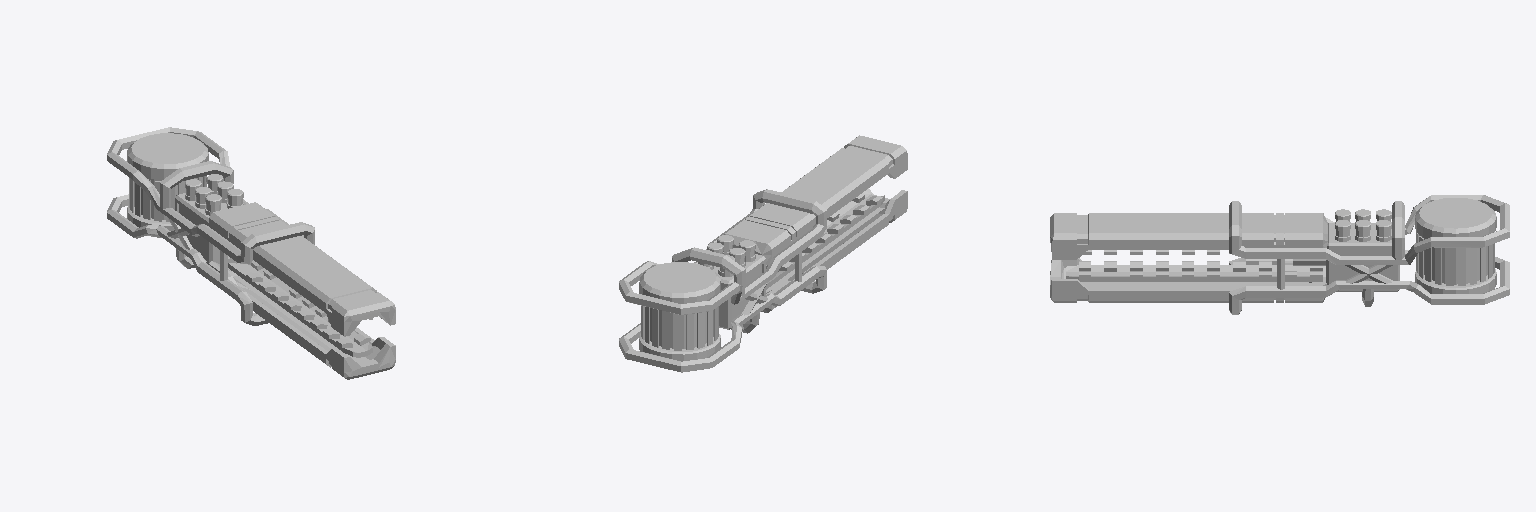
File: Railgun 1 Lambert.obj
3 views of the same model, side by side, from view 1: azimuth 30°, elevation 25°; view 2: azimuth 150°, elevation 25°; view 3: azimuth 270°, elevation 25° (orthographic).
Visible parts, largest first — view 1: RailgunCannon_Geo_Grp Roll_Cage Main_Body_Grp, RailgunCannon_Geo_Grp Top_Shroud Top_Shroud_and_Rail_Grp, RailgunCannon_Geo_Grp Botom_Shroud Bottom_Shroud_and_Rail_Grp, RailgunCannon_Geo_Grp Bottom_Shroud_and_Rail_Grp Bottom_Rail, Capacitor_Main_Body Capacitor_Body_Grp RailgunCannon_Geo_Grp, RailgunCannon_Geo_Grp Main_Body_Grp Accelerator_Spools, RailgunCannon_Geo_Grp Main_Body_Grp Box, Capacitor_Body_Grp RailgunCannon_Geo_Grp Capacitor_Bars; view 2: RailgunCannon_Geo_Grp Roll_Cage Main_Body_Grp, RailgunCannon_Geo_Grp Top_Shroud Top_Shroud_and_Rail_Grp, Capacitor_Main_Body Capacitor_Body_Grp RailgunCannon_Geo_Grp, RailgunCannon_Geo_Grp Botom_Shroud Bottom_Shroud_and_Rail_Grp, Capacitor_Body_Grp RailgunCannon_Geo_Grp Capacitor_Bars, RailgunCannon_Geo_Grp Bottom_Shroud_and_Rail_Grp Bottom_Rail, RailgunCannon_Geo_Grp Main_Body_Grp Box, RailgunCannon_Geo_Grp Main_Body_Grp Accelerator_Spools, Capacitor_Body_Grp RailgunCannon_Geo_Grp Capacitor_Ring; view 3: RailgunCannon_Geo_Grp Top_Shroud Top_Shroud_and_Rail_Grp, RailgunCannon_Geo_Grp Roll_Cage Main_Body_Grp, RailgunCannon_Geo_Grp Botom_Shroud Bottom_Shroud_and_Rail_Grp, RailgunCannon_Geo_Grp Bottom_Shroud_and_Rail_Grp Bottom_Rail, Capacitor_Main_Body Capacitor_Body_Grp RailgunCannon_Geo_Grp, RailgunCannon_Geo_Grp Main_Body_Grp Box, Capacitor_Body_Grp RailgunCannon_Geo_Grp Capacitor_Bars, RailgunCannon_Geo_Grp Main_Body_Grp Accelerator_Spools, Capacitor_Body_Grp RailgunCannon_Geo_Grp Capacitor_Ring.
Boxes of the visible parts, x1,y1,x2,y2 form: RailgunCannon_Geo_Grp Roll_Cage Main_Body_Grp: [107, 127, 314, 325]; RailgunCannon_Geo_Grp Top_Shroud Top_Shroud_and_Rail_Grp: [209, 202, 395, 336]; RailgunCannon_Geo_Grp Botom_Shroud Bottom_Shroud_and_Rail_Grp: [209, 261, 395, 379]; RailgunCannon_Geo_Grp Bottom_Shroud_and_Rail_Grp Bottom_Rail: [228, 256, 372, 357]; Capacitor_Main_Body Capacitor_Body_Grp RailgunCannon_Geo_Grp: [127, 133, 208, 237]; RailgunCannon_Geo_Grp Main_Body_Grp Accelerator_Spools: [185, 174, 243, 215]; RailgunCannon_Geo_Grp Main_Body_Grp Box: [175, 193, 227, 264]; Capacitor_Body_Grp RailgunCannon_Geo_Grp Capacitor_Bars: [129, 176, 206, 221]; RailgunCannon_Geo_Grp Roll_Cage Main_Body_Grp: [619, 189, 826, 372]; RailgunCannon_Geo_Grp Top_Shroud Top_Shroud_and_Rail_Grp: [724, 135, 907, 264]; Capacitor_Main_Body Capacitor_Body_Grp RailgunCannon_Geo_Grp: [639, 262, 720, 361]; RailgunCannon_Geo_Grp Botom_Shroud Bottom_Shroud_and_Rail_Grp: [761, 188, 907, 312]; Capacitor_Body_Grp RailgunCannon_Geo_Grp Capacitor_Bars: [641, 306, 718, 350]; RailgunCannon_Geo_Grp Bottom_Shroud_and_Rail_Grp Bottom_Rail: [766, 191, 884, 289]; RailgunCannon_Geo_Grp Main_Body_Grp Box: [713, 254, 765, 329]; RailgunCannon_Geo_Grp Main_Body_Grp Accelerator_Spools: [698, 235, 755, 276]; Capacitor_Body_Grp RailgunCannon_Geo_Grp Capacitor_Ring: [650, 308, 713, 348]; RailgunCannon_Geo_Grp Top_Shroud Top_Shroud_and_Rail_Grp: [1050, 213, 1327, 259]; RailgunCannon_Geo_Grp Roll_Cage Main_Body_Grp: [1229, 195, 1509, 314]; RailgunCannon_Geo_Grp Botom_Shroud Bottom_Shroud_and_Rail_Grp: [1050, 258, 1326, 302]; RailgunCannon_Geo_Grp Bottom_Shroud_and_Rail_Grp Bottom_Rail: [1066, 261, 1322, 281]; Capacitor_Main_Body Capacitor_Body_Grp RailgunCannon_Geo_Grp: [1415, 198, 1496, 293]; RailgunCannon_Geo_Grp Main_Body_Grp Box: [1326, 223, 1399, 291]; Capacitor_Body_Grp RailgunCannon_Geo_Grp Capacitor_Bars: [1416, 231, 1494, 285]; RailgunCannon_Geo_Grp Main_Body_Grp Accelerator_Spools: [1335, 209, 1391, 241]; Capacitor_Body_Grp RailgunCannon_Geo_Grp Capacitor_Ring: [1422, 237, 1487, 284].
Size of the model in its own units: 2.89 by 2.73 by 12.13.